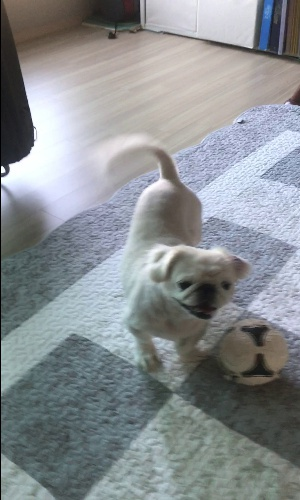ddubi: (96, 133, 251, 375)
